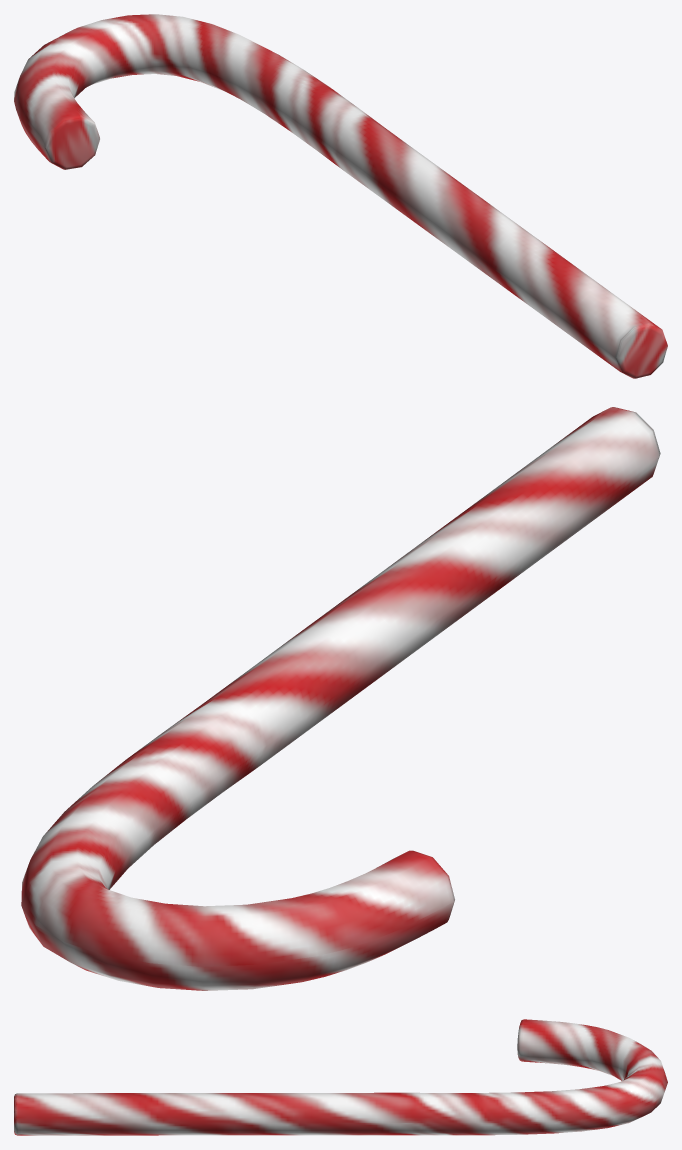
File: shegndantang.fbx
The picture shows the model from 3 angles, top to bottom: view 1: azimuth 30°, elevation 25°; view 2: azimuth 150°, elevation 25°; view 3: azimuth 270°, elevation 25°; orthographic projection. The views are drawn at different scales.
Parts seen in each view (by area): view 1: candy cane01_christmas sweets_0; view 2: candy cane01_christmas sweets_0; view 3: candy cane01_christmas sweets_0.
Boxes of the visible parts, x1,y1,x2,y2 form: candy cane01_christmas sweets_0: (14, 14, 667, 378); candy cane01_christmas sweets_0: (21, 407, 660, 990); candy cane01_christmas sweets_0: (14, 1019, 667, 1135).
Size of the model in its own units: 22.26 by 4.16 by 66.93.
